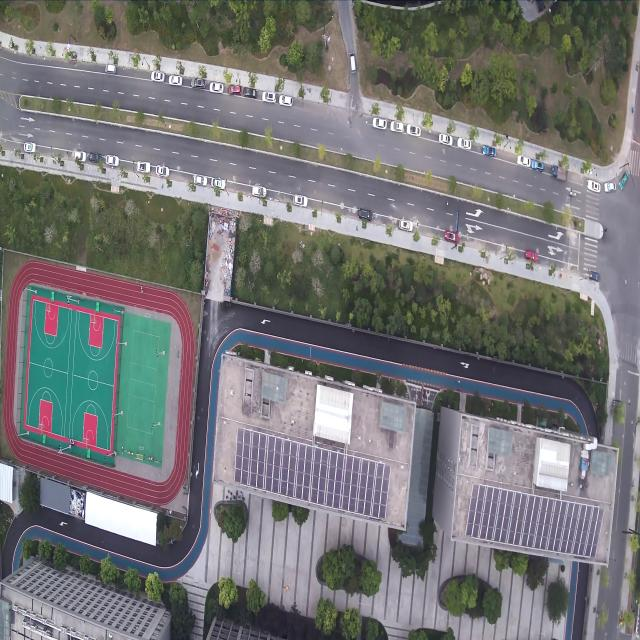drone: (341, 378, 345, 385)
